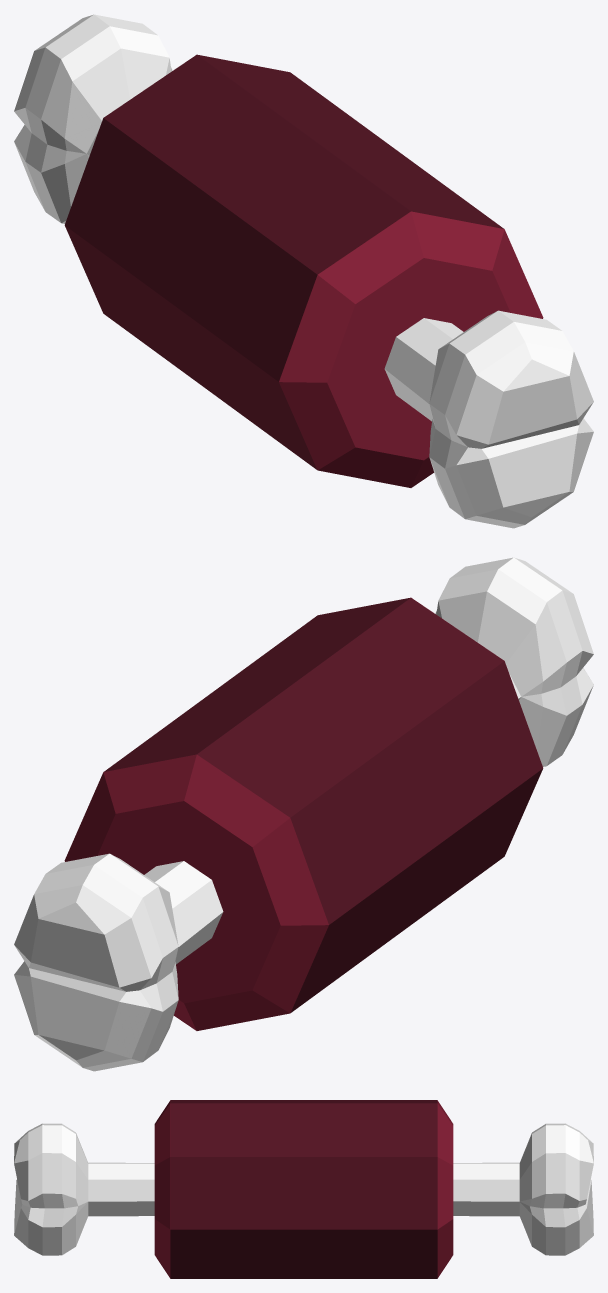
Rendered from carne de desenho animado com dois ossos.fbx.
3 views of the same model, one above another, from view 1: azimuth 30°, elevation 25°; view 2: azimuth 150°, elevation 25°; view 3: azimuth 270°, elevation 25° (orthographic). The views are drawn at different scales.
Visible parts, largest first — view 1: osso; view 2: osso; view 3: osso.
Part boxes in pixels (x1,y1,x2,y2): osso: (14,14,593,528); osso: (14,557,593,1071); osso: (14,1100,593,1278).
Bounding box in the file's own units: 242 × 242 × 739.
